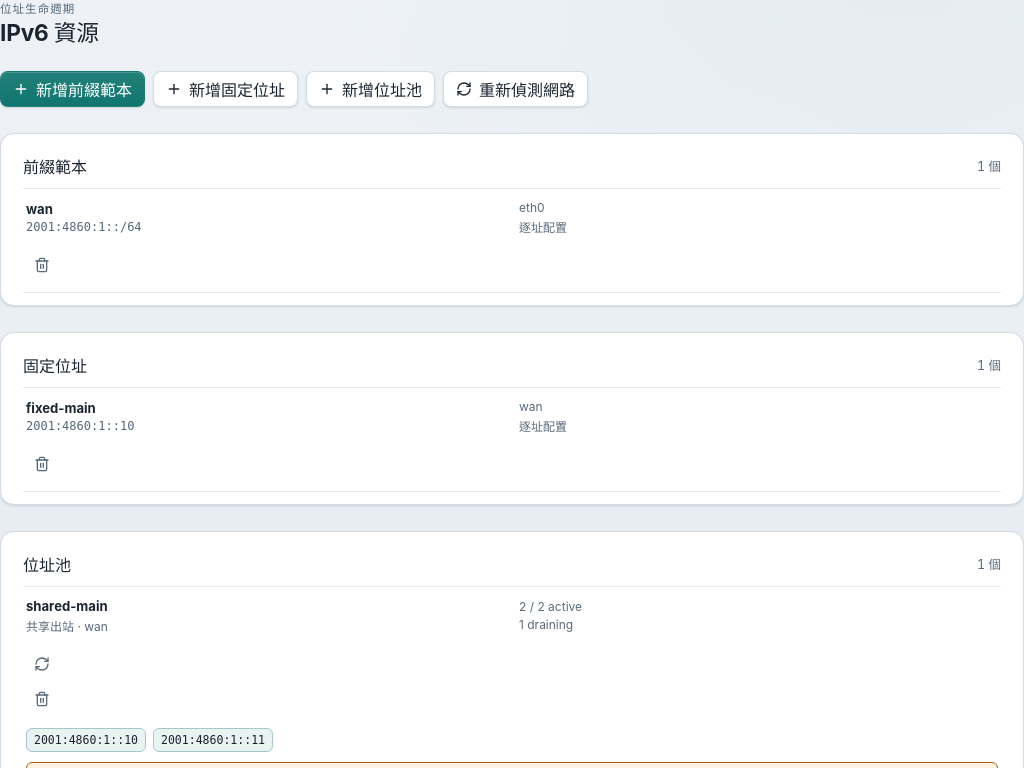
Test case: ResourcesView › loads interface and prefix candidates, disables conflicts, and keeps custom input available
The width and height of the screenshot is (1024, 768).
Click the button "新增前綴範本" at (72, 89), box [0,71,145,107]
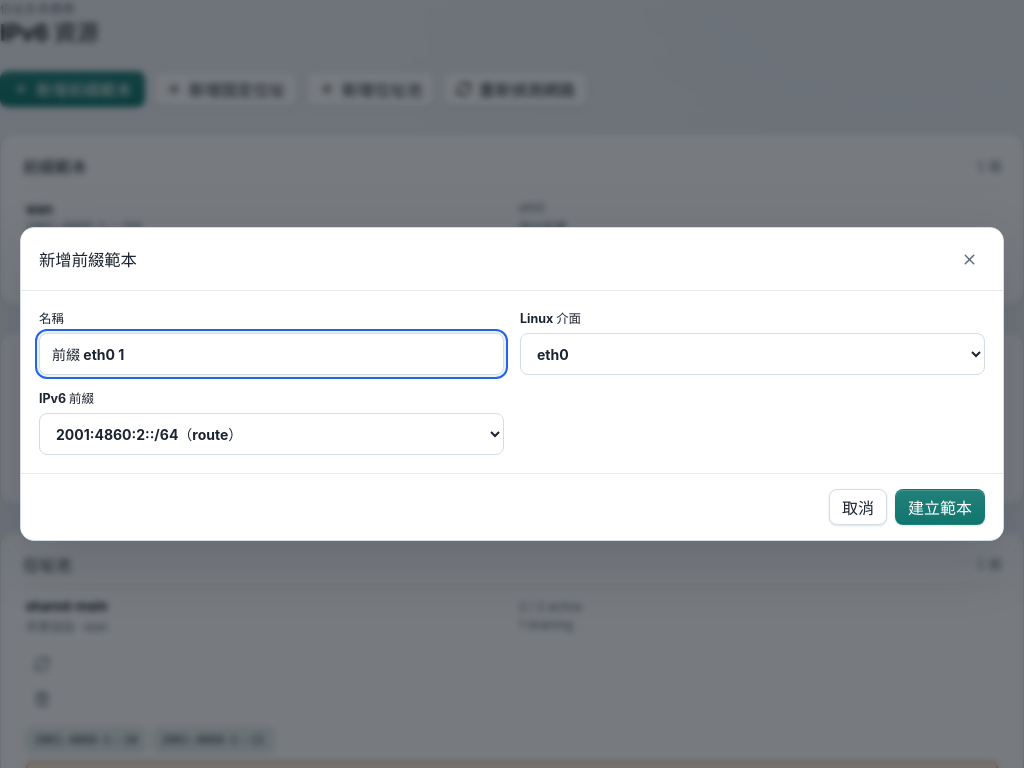
Select "eth0" in the dropdown labelled "Linux 介面" at (752, 354), box [520,333,985,375]
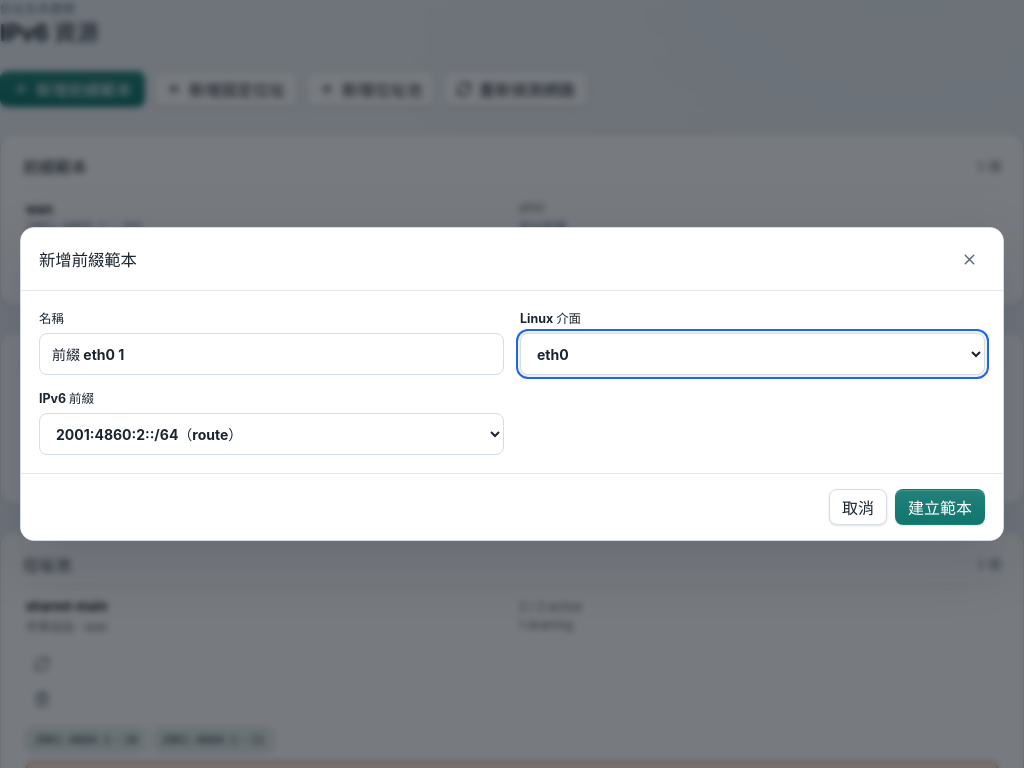
Select "2001:4860:2::/64（route）" in the dropdown labelled "IPv6 前綴" at (272, 434), box [39,413,504,455]
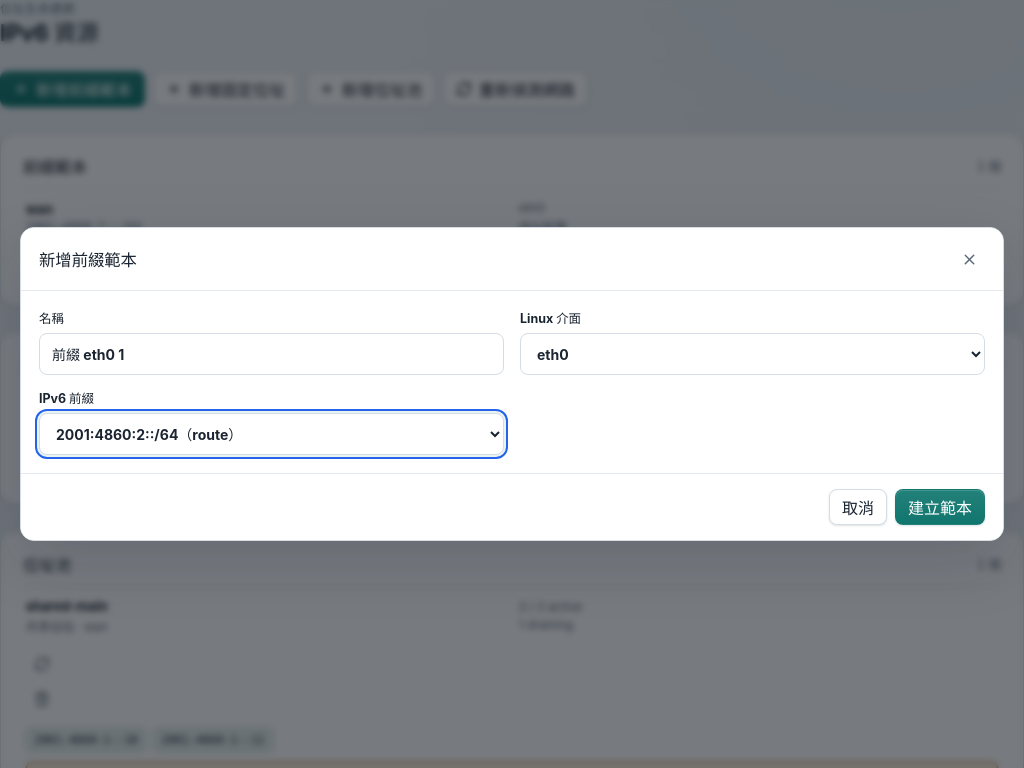
Expected: the field labelled "名稱" holds "前綴 eth0 1", [39,333,504,375]
Select "自訂" in the dropdown labelled "Linux 介面" at (752, 354), box [520,333,985,375]
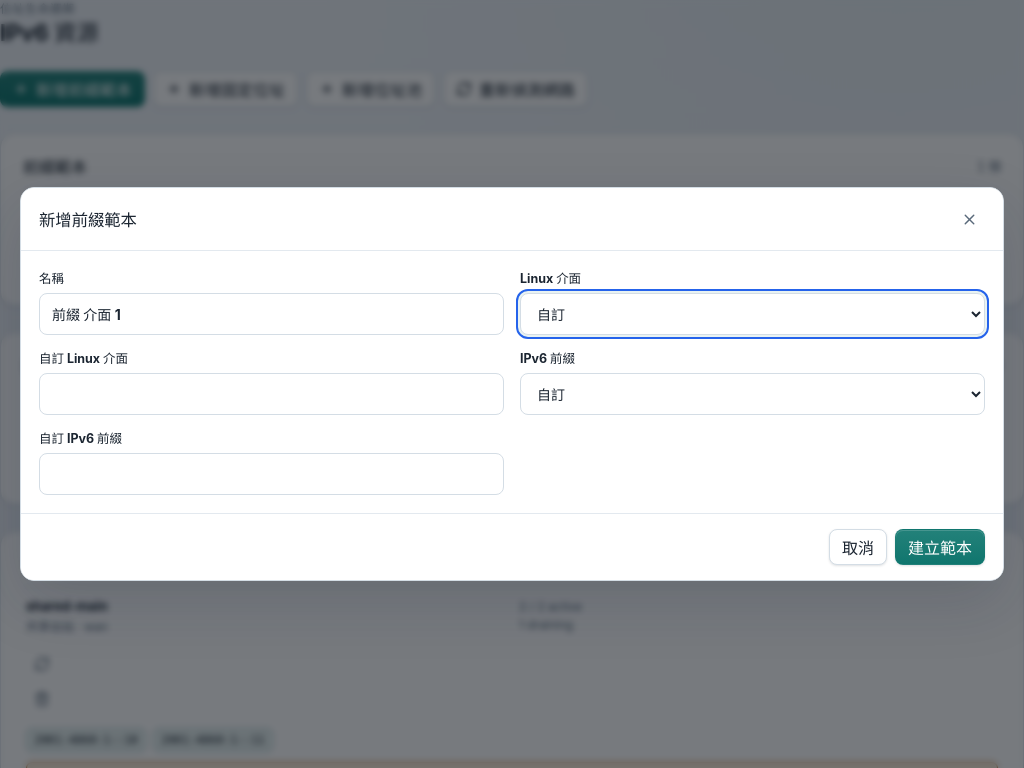
Expected: the field labelled "自訂 Linux 介面" is shown, [39,373,504,415]
Expected: the field labelled "自訂 IPv6 前綴" is shown, [39,453,504,495]
